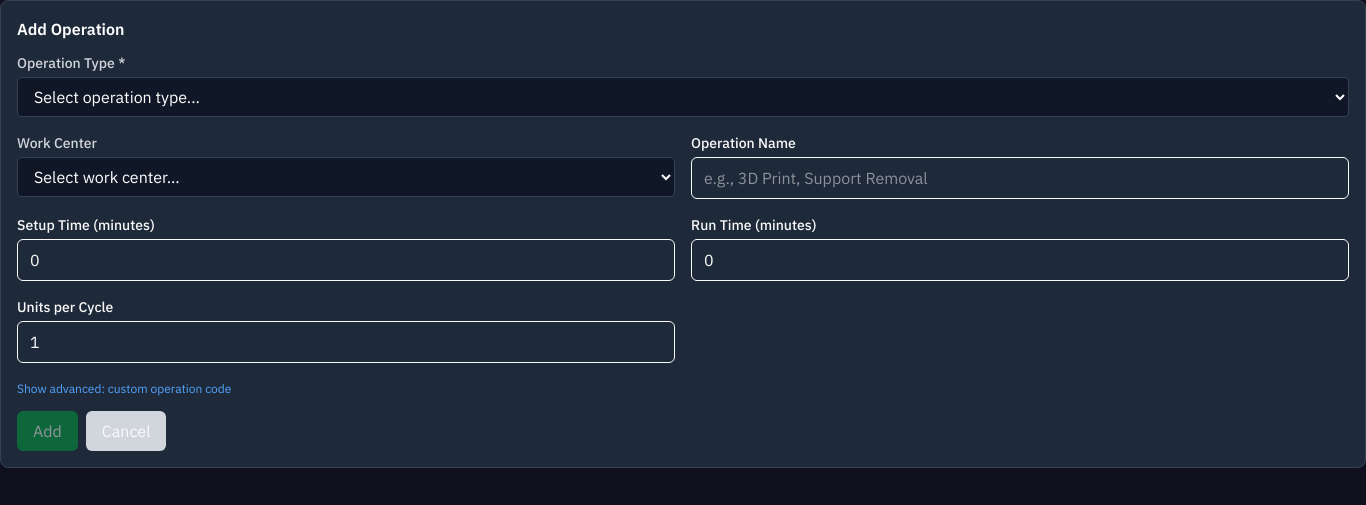
Test case: AddOperationForm — operation type picker › disables Add until an operation type is selected
Expected: the button "Add" is disabled, x1=17 y1=411 x2=78 y2=451
Select "FDM Print" in the dropdown labelled "Operation Type *" at (683, 97), box x1=17 y1=77 x2=1349 y2=117
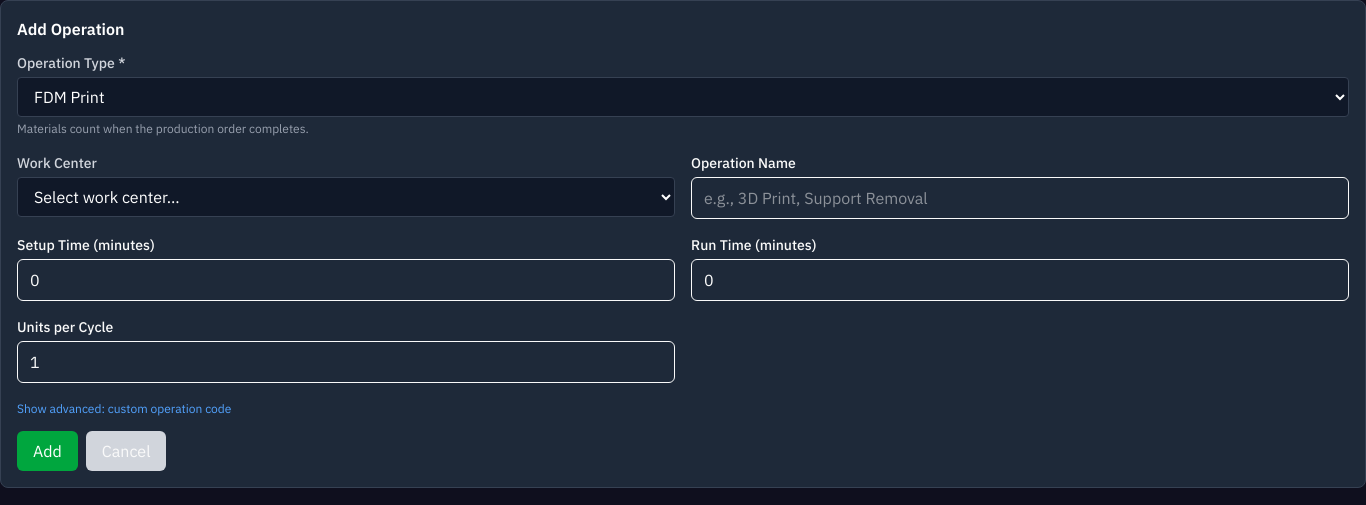
Expected: the button "Add" is enabled, x1=17 y1=431 x2=78 y2=471
